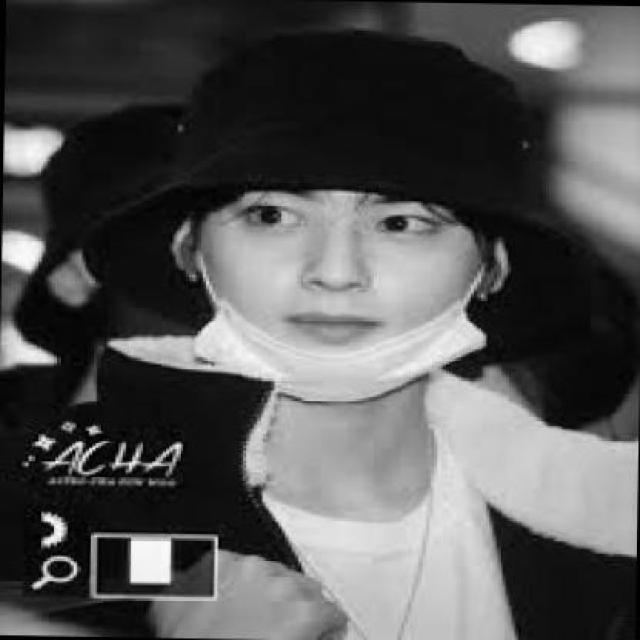earphone: (157, 207, 212, 306), (475, 239, 513, 335)
